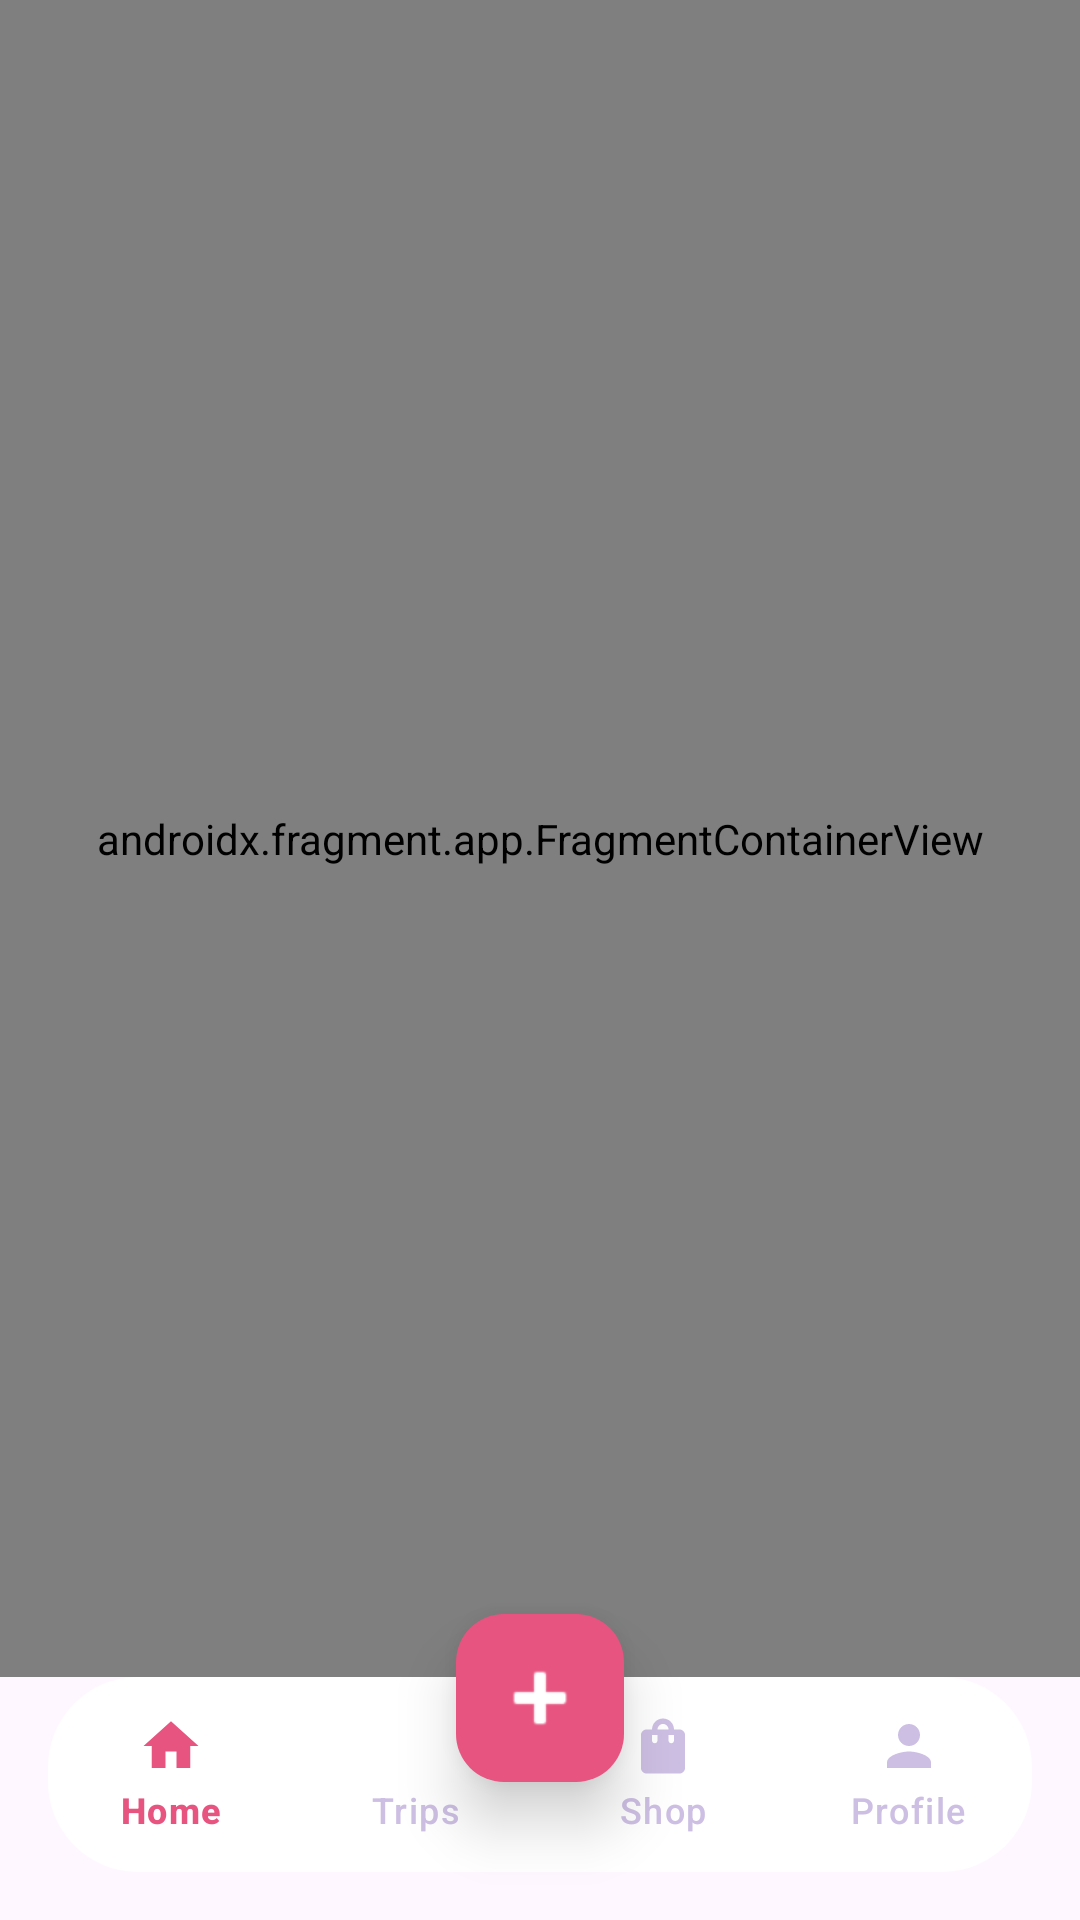

Point at icon controls on the screen. Image size 1080w x 1920h, points as (x=x, y=y).
add: (x=540, y=1698)
